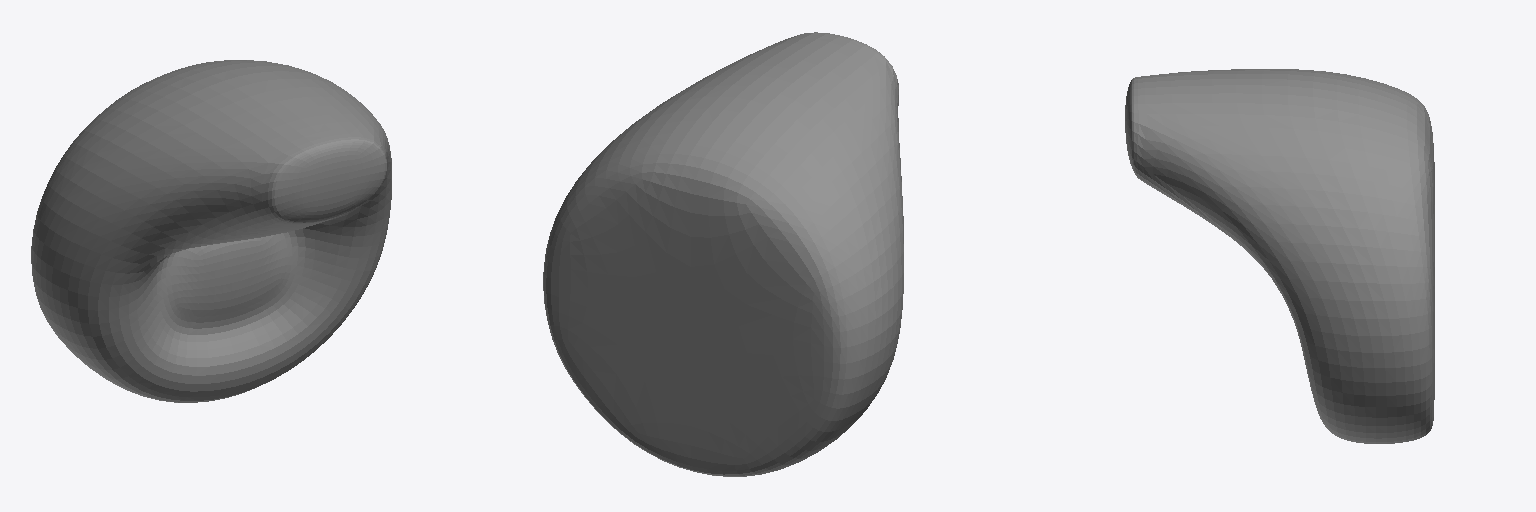
File: beanbag.obj
The picture shows the model from 3 angles: view 1: azimuth 30°, elevation 25°; view 2: azimuth 150°, elevation 25°; view 3: azimuth 270°, elevation 25°; orthographic projection.
Visible parts, largest first — view 1: 10216_Bean_Bag_Chair_v1; view 2: 10216_Bean_Bag_Chair_v1; view 3: 10216_Bean_Bag_Chair_v1.
Boxes of the visible parts, x1,y1,x2,y2 form: 10216_Bean_Bag_Chair_v1: [31, 60, 391, 402]; 10216_Bean_Bag_Chair_v1: [543, 32, 903, 476]; 10216_Bean_Bag_Chair_v1: [1125, 69, 1434, 443].
Size of the model in its own units: 84.51 by 83.83 by 68.94.